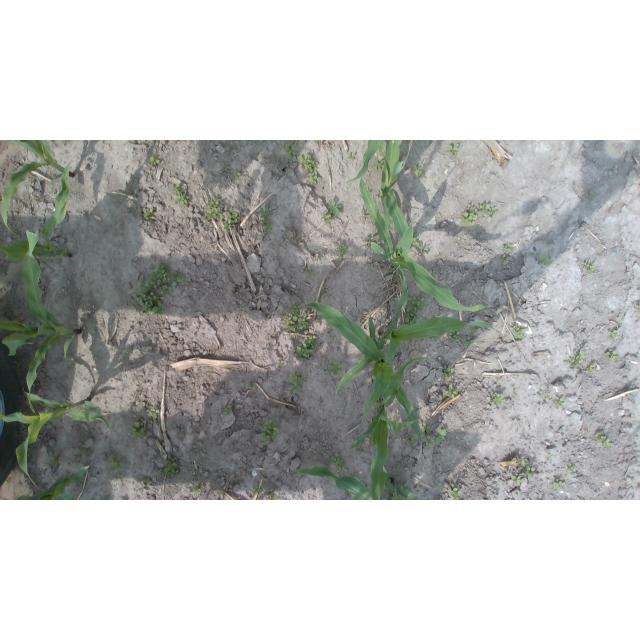Maize: (292, 298, 428, 458), (358, 175, 492, 312), (337, 291, 499, 392), (1, 228, 84, 416), (1, 389, 116, 490), (348, 356, 428, 500), (0, 158, 72, 262), (1, 141, 76, 234), (293, 466, 420, 500), (0, 464, 90, 500), (377, 140, 407, 238), (344, 140, 385, 182)
Weeds: (135, 262, 169, 316), (461, 202, 499, 226), (298, 152, 323, 187), (510, 456, 537, 487), (401, 295, 428, 325), (284, 302, 308, 333), (260, 417, 280, 447), (170, 182, 190, 209), (297, 336, 319, 360), (222, 210, 242, 234), (287, 370, 305, 396), (260, 204, 275, 235), (411, 230, 429, 255), (330, 451, 350, 473), (205, 198, 224, 221), (569, 349, 587, 369), (108, 455, 127, 473), (130, 421, 147, 441), (284, 141, 300, 160), (163, 459, 178, 477), (334, 243, 349, 261), (439, 364, 455, 380), (448, 483, 463, 500), (169, 272, 184, 289), (324, 362, 342, 376), (596, 433, 610, 450), (328, 200, 342, 217), (513, 325, 528, 340), (411, 163, 425, 178), (142, 208, 155, 224), (445, 384, 458, 399), (435, 428, 447, 444), (539, 390, 553, 403), (551, 477, 564, 491), (538, 254, 553, 266), (364, 237, 380, 248), (605, 350, 619, 362), (191, 483, 202, 498), (422, 436, 435, 448), (449, 330, 462, 342), (148, 407, 160, 419), (493, 393, 506, 404), (374, 160, 385, 173), (585, 259, 595, 273), (449, 144, 460, 156), (223, 404, 234, 416), (320, 212, 332, 223), (555, 396, 565, 409), (421, 423, 432, 434), (50, 454, 59, 467), (470, 325, 481, 335), (253, 484, 264, 494), (148, 157, 160, 166), (587, 363, 597, 373), (502, 243, 512, 253), (609, 330, 620, 339), (407, 437, 416, 448), (265, 492, 275, 501), (465, 337, 474, 347), (308, 267, 317, 277), (434, 481, 442, 492), (139, 477, 151, 484), (568, 462, 576, 472), (68, 357, 76, 367), (587, 191, 597, 198), (387, 266, 396, 273), (500, 255, 508, 262), (348, 152, 355, 160), (312, 256, 320, 263), (234, 171, 241, 179), (320, 286, 326, 295), (547, 454, 554, 461), (368, 440, 375, 447), (277, 361, 284, 368), (125, 345, 131, 353), (401, 483, 408, 489), (249, 382, 256, 388), (432, 270, 437, 278), (379, 151, 385, 157), (435, 335, 440, 340), (33, 197, 39, 201), (637, 304, 640, 312), (314, 140, 319, 142)
